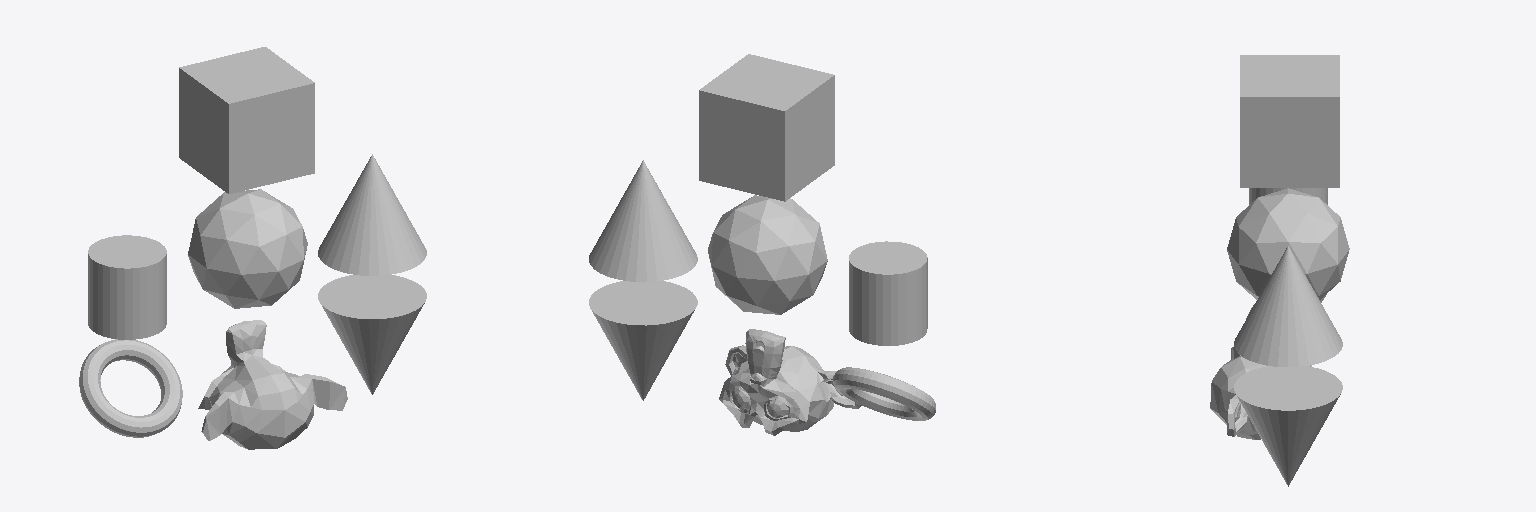
Rendered from spheres3.obj.
3 renders of one model, left to right at view 1: azimuth 30°, elevation 25°; view 2: azimuth 150°, elevation 25°; view 3: azimuth 270°, elevation 25°, orthographic.
Parts seen in each view (by area): view 1: Icosphere; view 2: Icosphere; view 3: Icosphere.
Part boxes in pixels (x1,y1,x2,y2): Icosphere: (79, 47, 426, 449); Icosphere: (589, 54, 935, 435); Icosphere: (1210, 55, 1349, 486).
Bounding box in the file's own units: 1.74 × 1.77 × 0.6281.